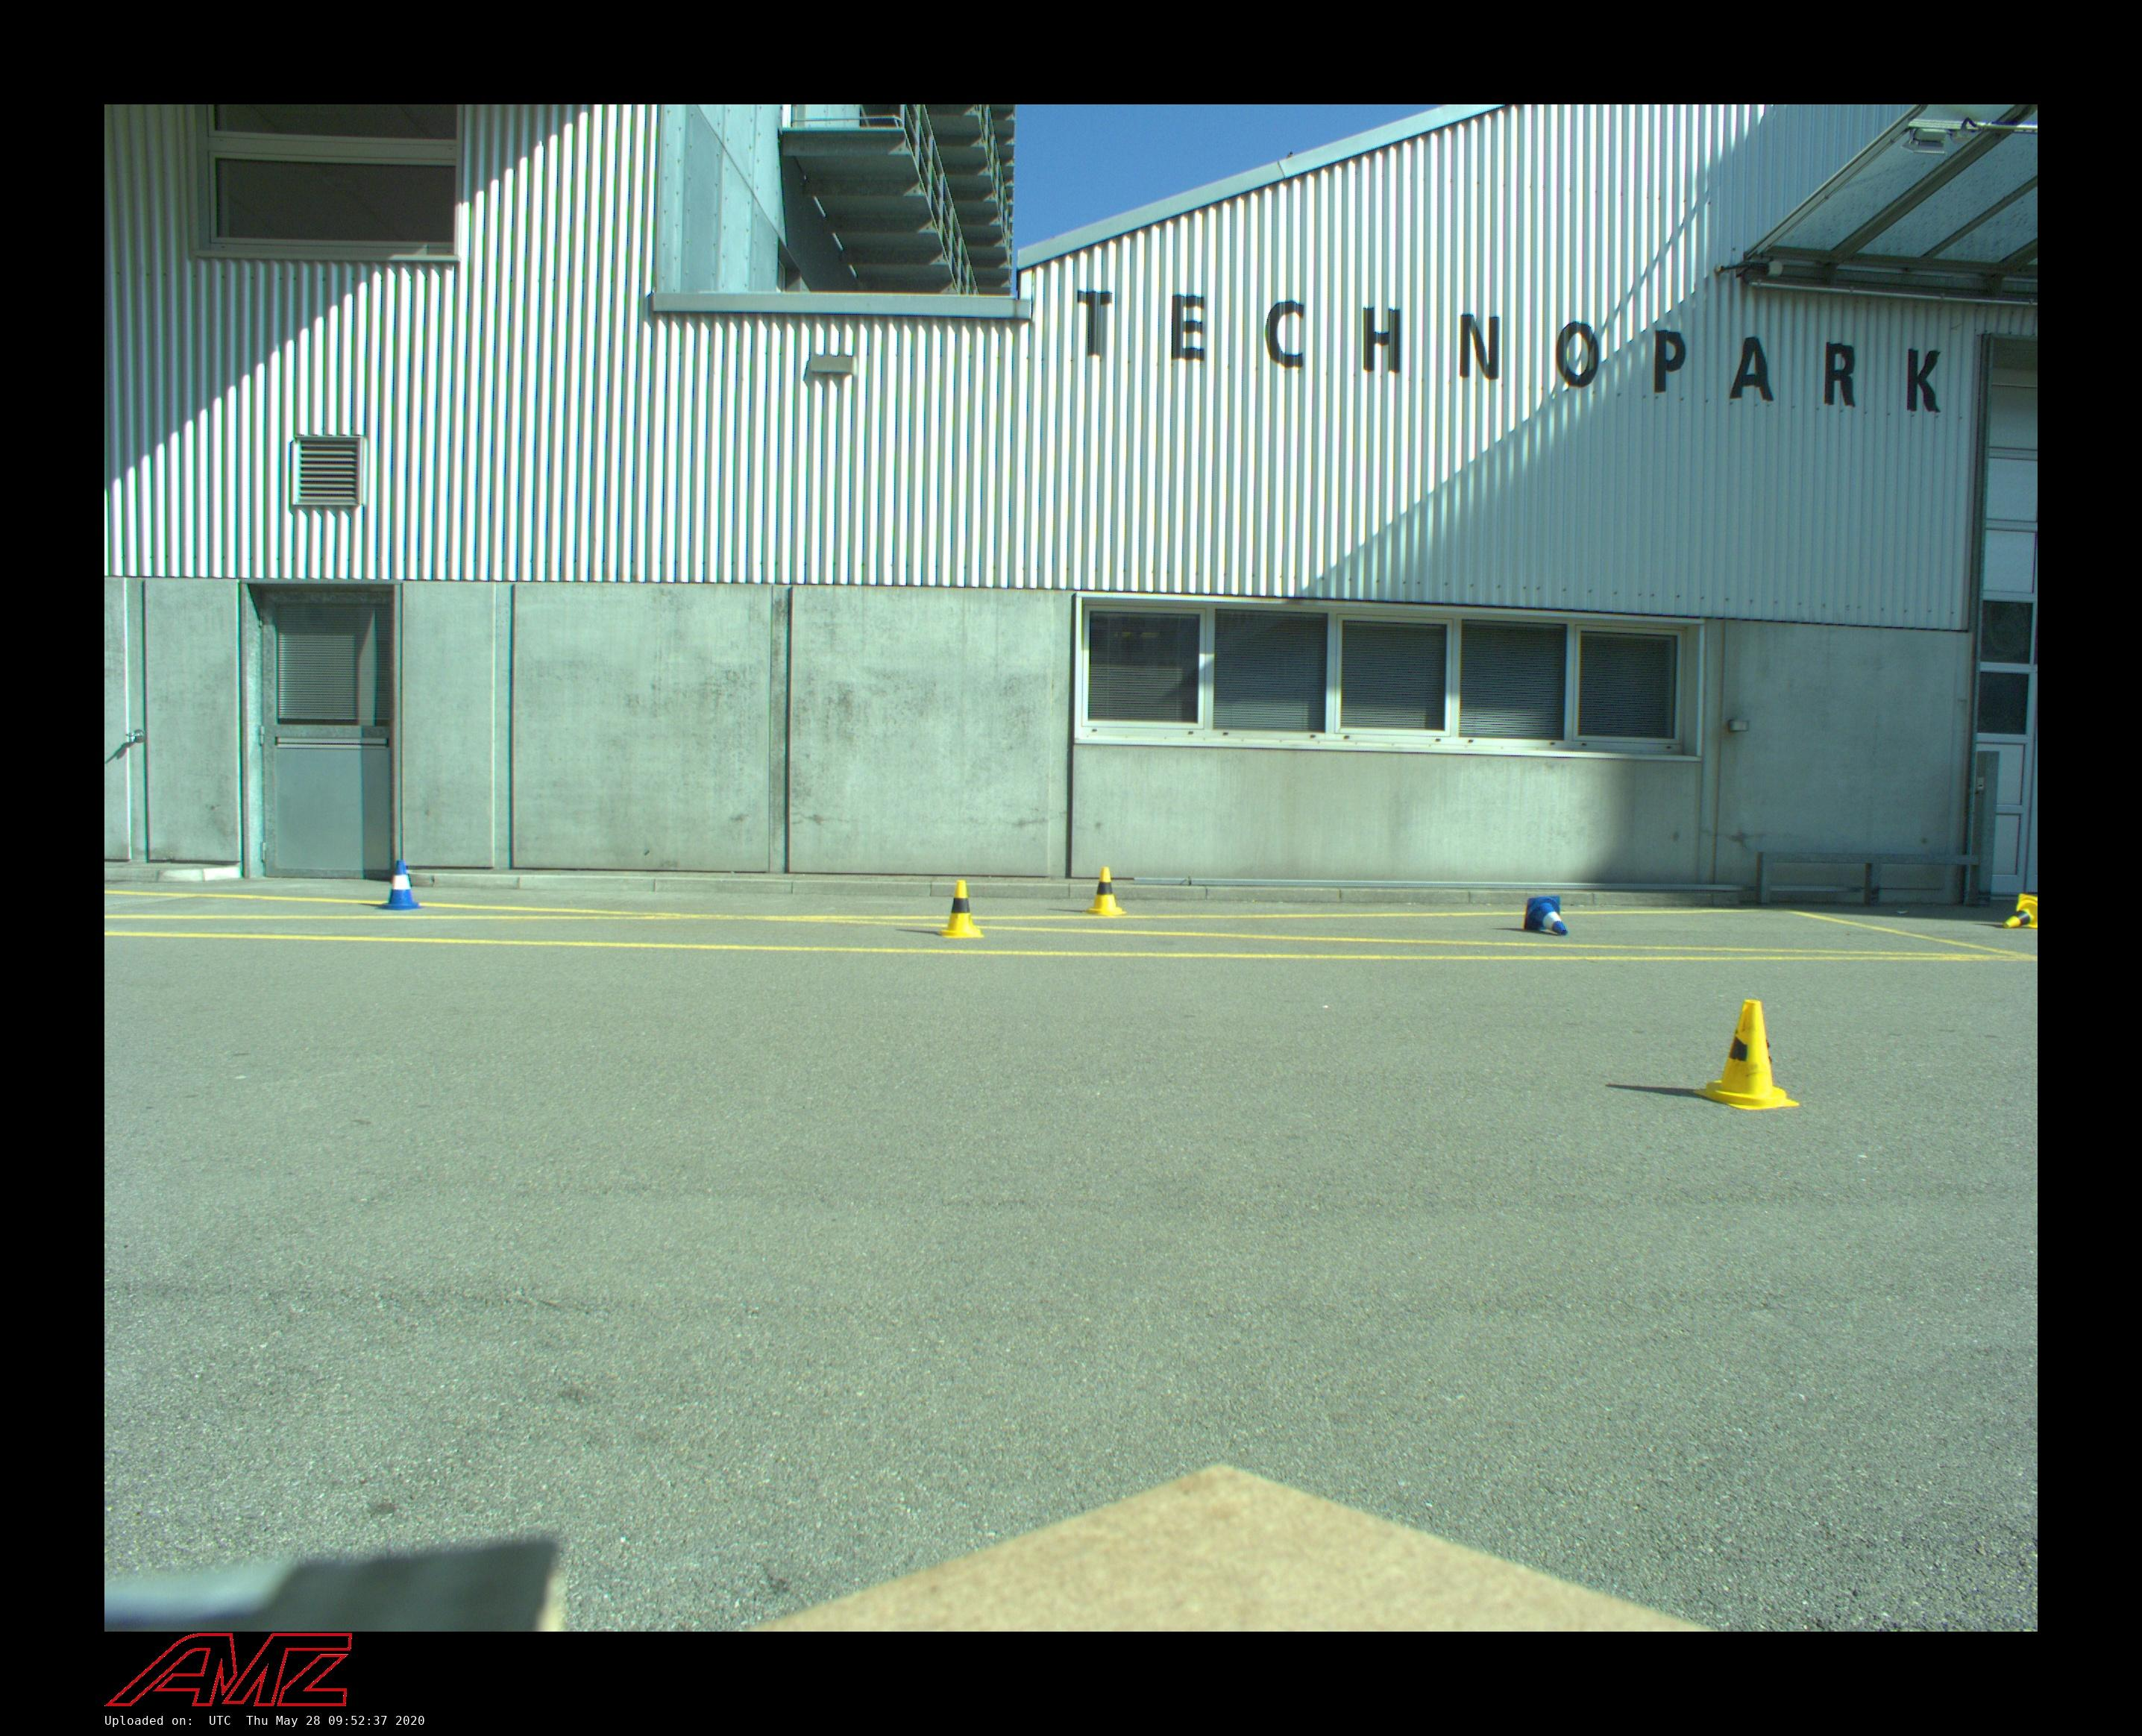blue_cone: (374, 861, 425, 911), (1524, 896, 1568, 935)
yellow_cone: (1692, 999, 1798, 1111), (937, 880, 983, 939), (1083, 868, 1127, 916), (2002, 893, 2037, 928)
